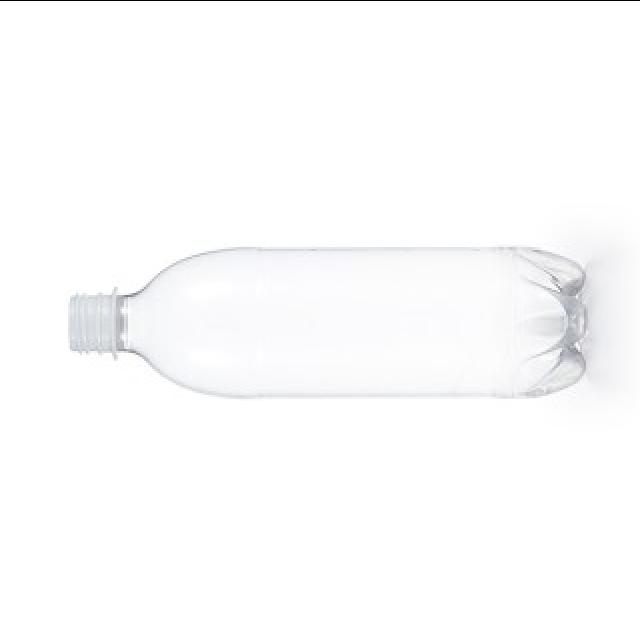bottom: (500, 247, 585, 396)
neck: (70, 249, 258, 395)
